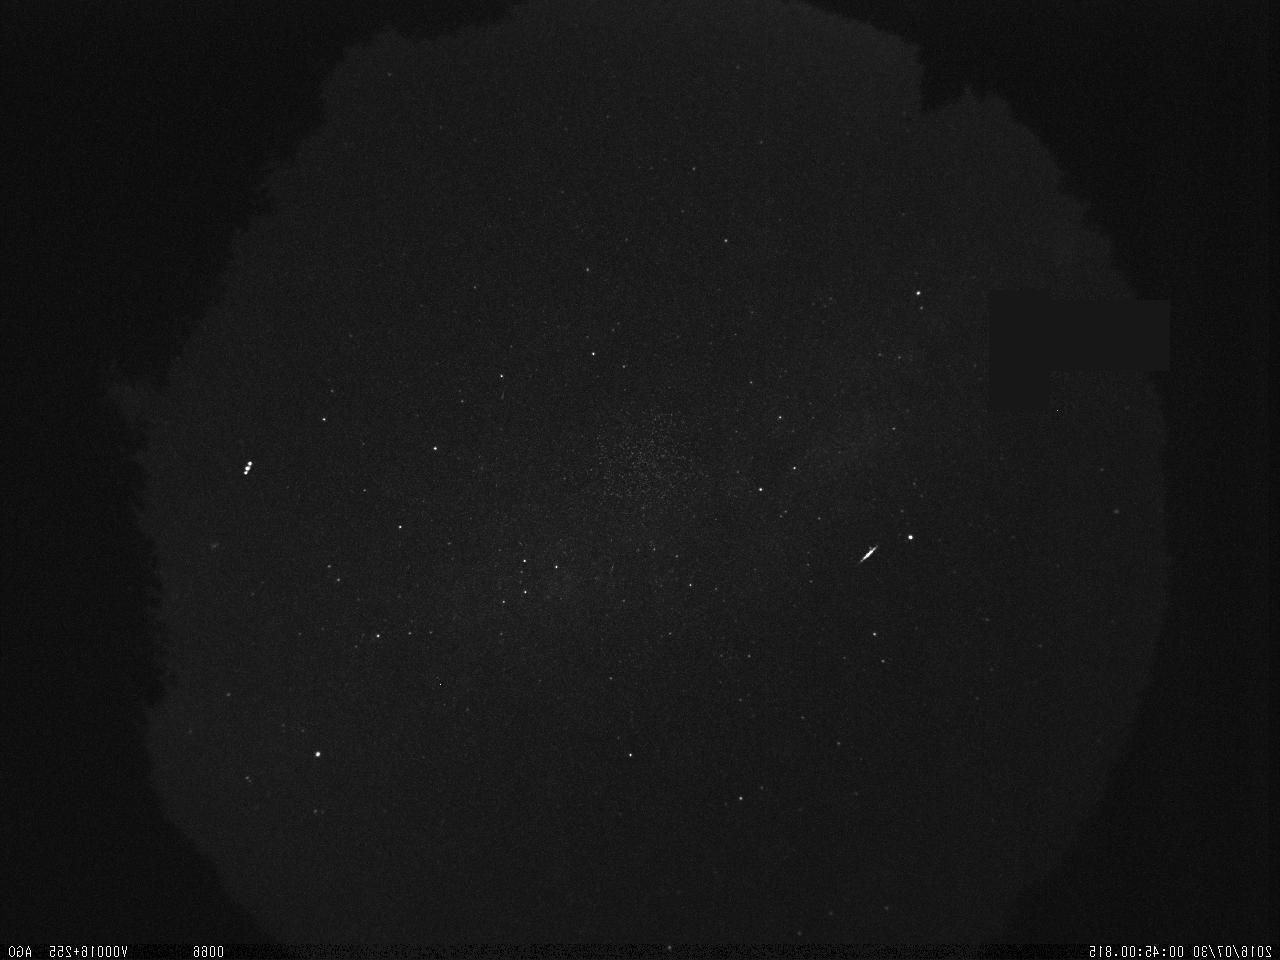meteor: (852, 537, 885, 571)
satelite: (238, 455, 258, 482)
